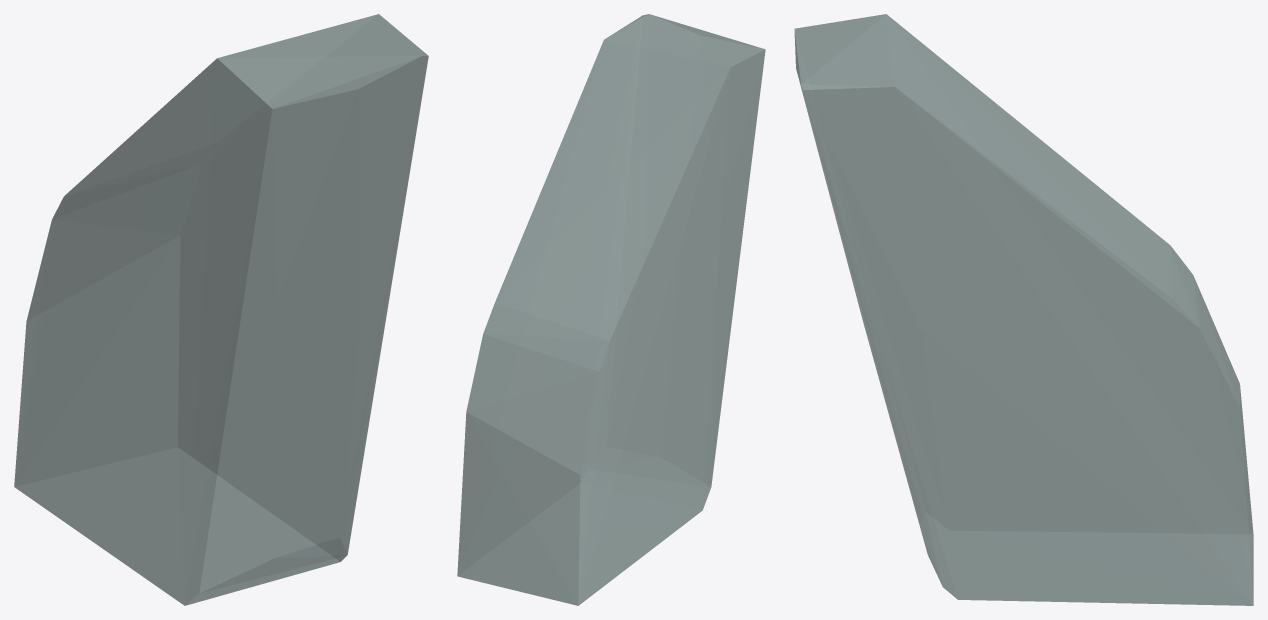
The picture shows the model from 3 angles, left to right: view 1: azimuth 30°, elevation 25°; view 2: azimuth 150°, elevation 25°; view 3: azimuth 270°, elevation 25°; orthographic projection. The views are drawn at different scales.
Parts seen in each view (by area): view 1: Shape_IndexedFaceSet.010_Shape_IndexedFaceSet.12281; view 2: Shape_IndexedFaceSet.010_Shape_IndexedFaceSet.12281; view 3: Shape_IndexedFaceSet.010_Shape_IndexedFaceSet.12281.
Boxes of the visible parts, bbox=[...] form: Shape_IndexedFaceSet.010_Shape_IndexedFaceSet.12281: bbox=[14, 14, 428, 605]; Shape_IndexedFaceSet.010_Shape_IndexedFaceSet.12281: bbox=[457, 14, 765, 605]; Shape_IndexedFaceSet.010_Shape_IndexedFaceSet.12281: bbox=[794, 14, 1253, 605].
Size of the model in its own units: 0.175 by 0.5811 by 0.4652.
